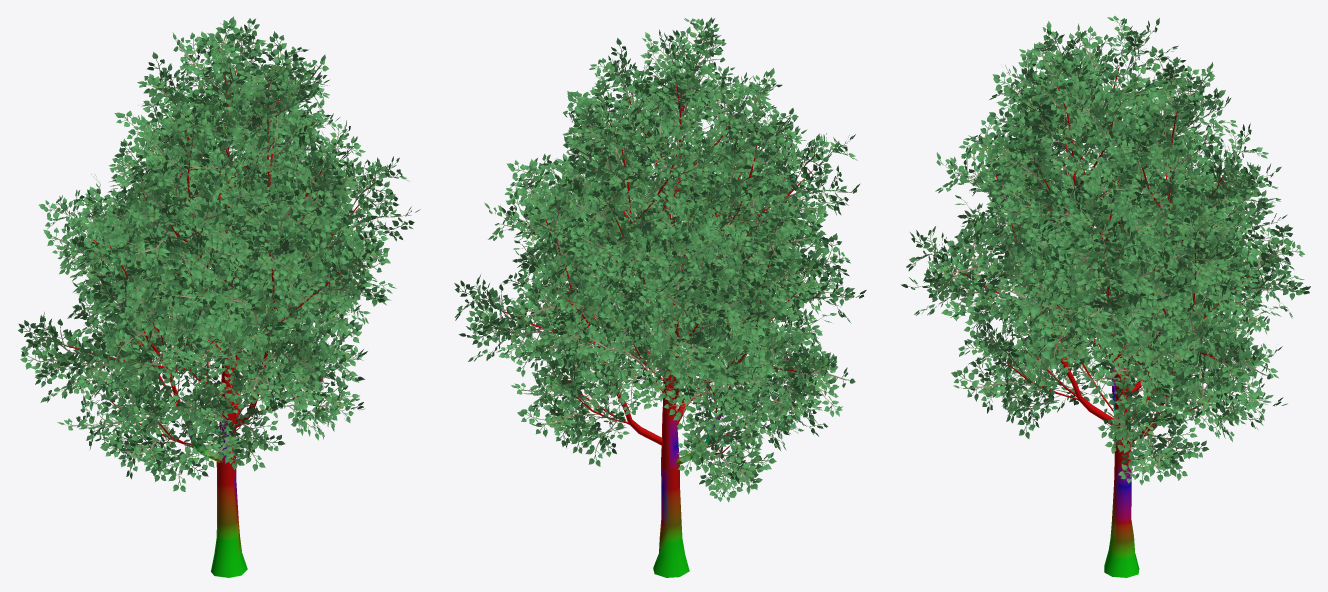
File: MS_BroadTree03.fbx
The picture shows the model from 3 angles, left to right: view 1: azimuth 30°, elevation 25°; view 2: azimuth 150°, elevation 25°; view 3: azimuth 270°, elevation 25°; orthographic projection. The views are drawn at different scales.
Visible parts, largest first — view 1: Leaves, TreeBare; view 2: Leaves, TreeBare; view 3: Leaves, TreeBare.
Part boxes in pixels (x1,y1,x2,y2): Leaves: (18,16,420,491); TreeBare: (69,70,358,577); Leaves: (454,17,866,502); TreeBare: (504,84,812,577); Leaves: (901,16,1310,485); TreeBare: (956,66,1249,577).
Bounding box in the file's own units: 1247 × 1792 × 1209.
